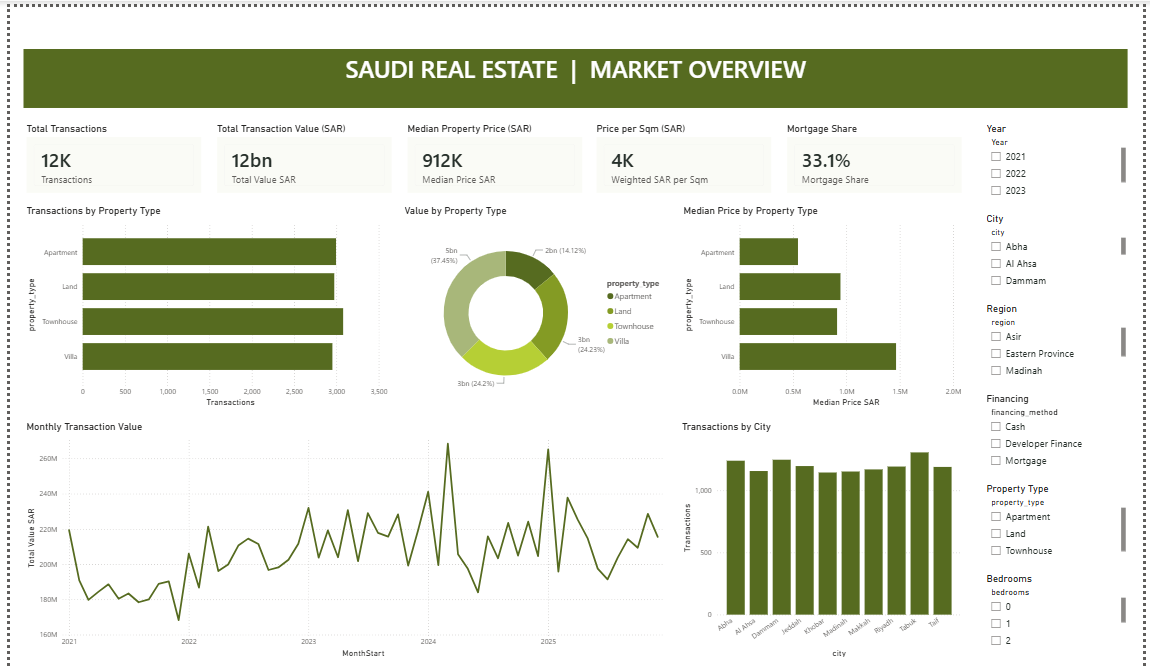

What the dashboard file says about the page in this screenshot:
{"tool":"powerbi","page":{"name":"01 | Market Overview","canvas":[1920,1080],"ordinal":0},"visuals":[{"type":"cardVisual","title":"Total Transactions","fields":{"Data":["Transactions.Transactions"]},"box":[24,144,306,125],"z":1000},{"type":"cardVisual","title":"Total Transaction Value (SAR)","fields":{"Data":["Transactions.Total Value SAR"]},"box":[346,144,306,125],"z":1000},{"type":"cardVisual","title":"Median Property Price (SAR)","fields":{"Data":["Transactions.Median Price SAR"]},"box":[668,144,306,125],"z":1000},{"type":"cardVisual","title":"Price per Sqm (SAR)","fields":{"Data":["Transactions.Weighted SAR per Sqm"]},"box":[990,144,306,125],"z":1000},{"type":"cardVisual","title":"Mortgage Share","fields":{"Data":["Transactions.Mortgage Share"]},"box":[1312,144,306,125],"z":1000},{"type":"slicer","title":"Year","fields":{"Values":["Transactions.Year"]},"box":[1650,144,246,140],"z":1000},{"type":"clusteredBarChart","title":"Transactions by Property Type","fields":{"Category":["Transactions.property_type"],"Y":["Transactions.Transactions"]},"box":[24,285,622,347],"z":1000},{"type":"donutChart","title":"Value by Property Type","fields":{"Category":["Transactions.property_type"],"Y":["Transactions.Total Value SAR"]},"box":[663,285,458,347],"z":1000},{"type":"clusteredBarChart","title":"Median Price by Property Type","fields":{"Category":["Transactions.property_type"],"Y":["Transactions.Median Price SAR"]},"box":[1137,285,481,347],"z":1000},{"type":"slicer","title":"City","fields":{"Values":["Transactions.city"]},"box":[1650,297,246,140],"z":1000},{"type":"slicer","title":"Region","fields":{"Values":["Transactions.region"]},"box":[1650,450,246,140],"z":1000},{"type":"slicer","title":"Financing","fields":{"Values":["Transactions.financing_method"]},"box":[1650,603,246,140],"z":1000},{"type":"lineChart","title":"Monthly Transaction Value","fields":{"Category":["Transactions.MonthStart"],"Y":["Transactions.Total Value SAR"]},"box":[24,650,1093,405],"z":1000},{"type":"clusteredColumnChart","title":"Transactions by City","fields":{"Category":["Transactions.city"],"Y":["Transactions.Transactions"]},"box":[1135,650,483,405],"z":1000},{"type":"slicer","title":"Property Type","fields":{"Values":["Transactions.property_type"]},"box":[1650,756,246,140],"z":1000},{"type":"slicer","title":"Bedrooms","fields":{"Values":["Transactions.bedrooms"]},"box":[1650,909,246,140],"z":1000},{"type":"textbox","box":[24,20,1872,100],"z":2000}]}

Visuals, with their boxes on the page's 1920x1080 design canvas (x1, y1, x2, y2). These are canvas units, not pixel positions in the 1150x669 screenshot, which may show the page scaled, cropped or inside an application window:
"Total Transactions" cardVisual: detection(24, 144, 330, 269)
"Total Transaction Value (SAR)" cardVisual: detection(346, 144, 652, 269)
"Median Property Price (SAR)" cardVisual: detection(668, 144, 974, 269)
"Price per Sqm (SAR)" cardVisual: detection(990, 144, 1296, 269)
"Mortgage Share" cardVisual: detection(1312, 144, 1618, 269)
"Year" slicer: detection(1650, 144, 1896, 284)
"Transactions by Property Type" clusteredBarChart: detection(24, 285, 646, 632)
"Value by Property Type" donutChart: detection(663, 285, 1121, 632)
"Median Price by Property Type" clusteredBarChart: detection(1137, 285, 1618, 632)
"City" slicer: detection(1650, 297, 1896, 437)
"Region" slicer: detection(1650, 450, 1896, 590)
"Financing" slicer: detection(1650, 603, 1896, 743)
"Monthly Transaction Value" lineChart: detection(24, 650, 1117, 1055)
"Transactions by City" clusteredColumnChart: detection(1135, 650, 1618, 1055)
"Property Type" slicer: detection(1650, 756, 1896, 896)
"Bedrooms" slicer: detection(1650, 909, 1896, 1049)
textbox: detection(24, 20, 1896, 120)
